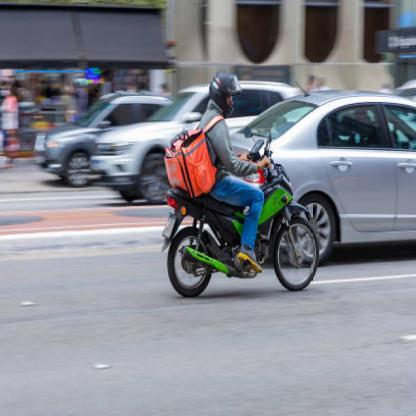Motorcycle: (160, 144, 322, 296)
